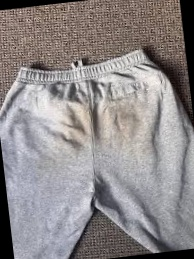earth: (64, 105, 87, 141), (117, 107, 128, 123)
